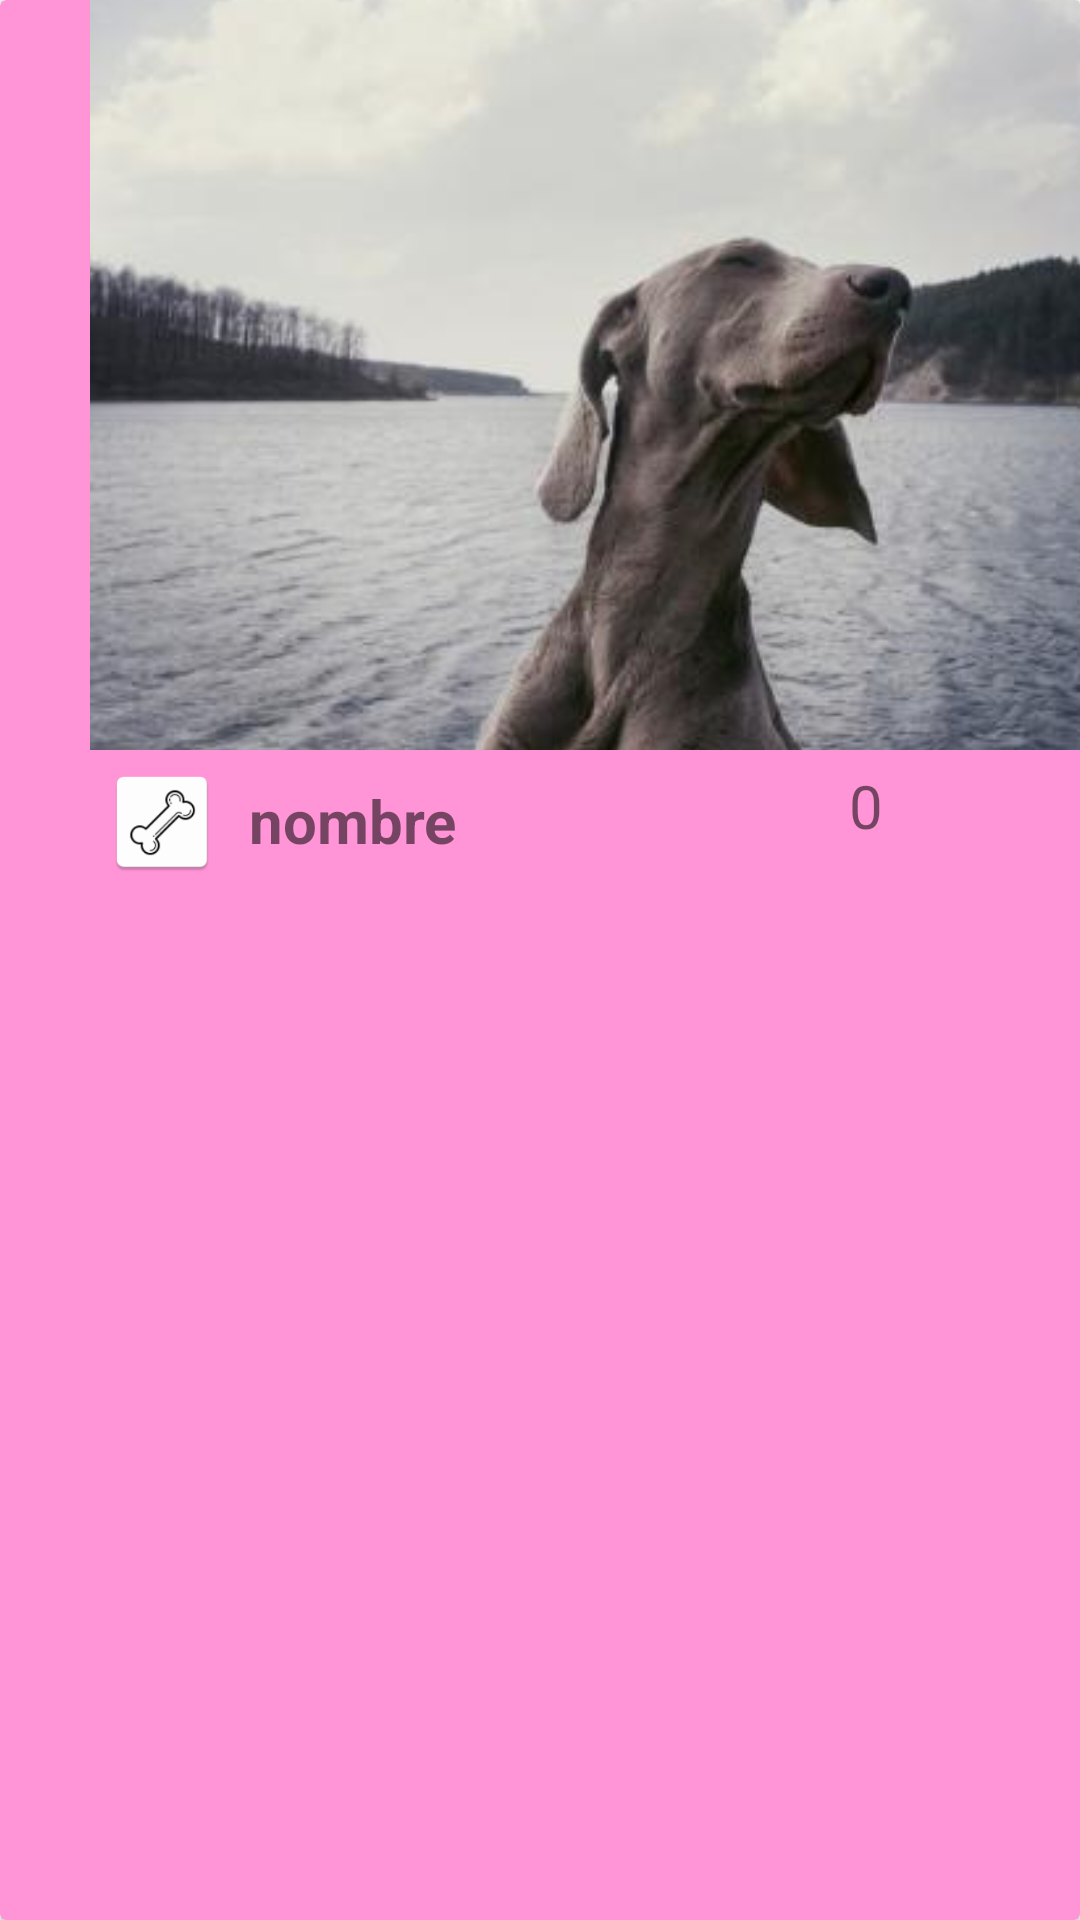

Locate icon controls on the screen. Image size 1080x1920, boxes as (x1=x1, y1=y1, x2=x2, y2=y2).
whitebone: (x1=117, y1=777, x2=208, y2=870)
